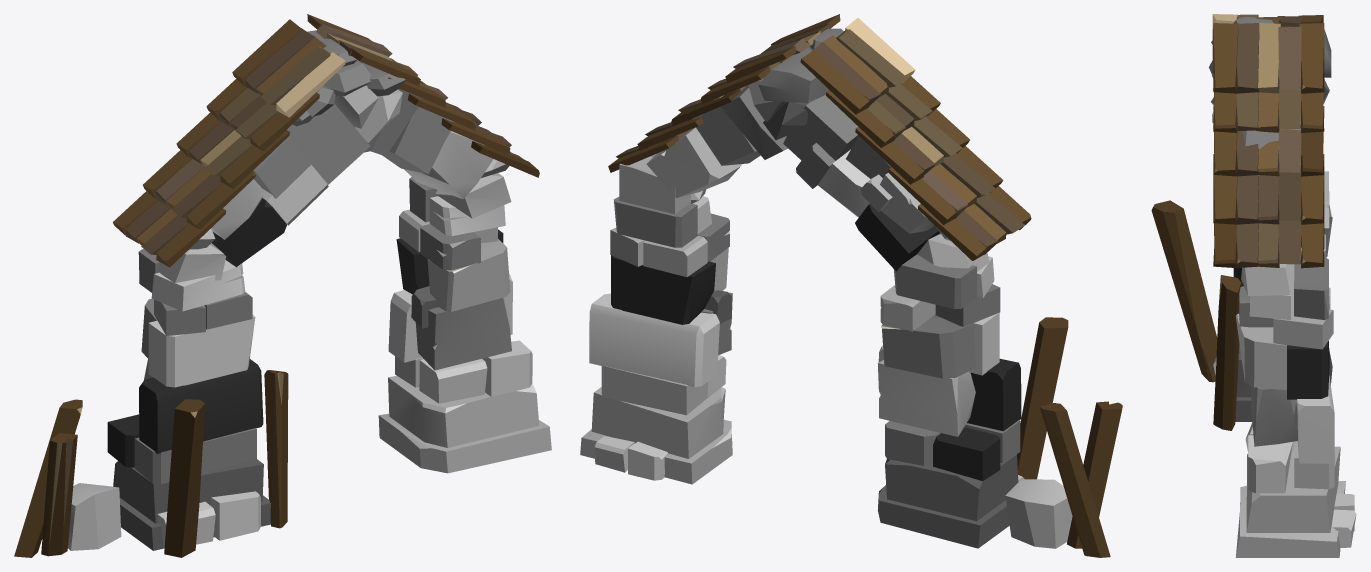
Rendered from EA03_Fence_RockGate_01a.glb.
3 renders of one model, left to right at view 1: azimuth 30°, elevation 25°; view 2: azimuth 150°, elevation 25°; view 3: azimuth 270°, elevation 25°, orthographic. The views are drawn at different scales.
Visible parts, largest first — view 1: EA03_Fence_RockGate_01a; view 2: EA03_Fence_RockGate_01a; view 3: EA03_Fence_RockGate_01a.
Part boxes in pixels (left/top/right/bottom): EA03_Fence_RockGate_01a: left=14, top=14, right=551, bottom=557; EA03_Fence_RockGate_01a: left=580, top=14, right=1122, bottom=557; EA03_Fence_RockGate_01a: left=1151, top=14, right=1356, bottom=557.
Bounding box in the file's own units: 4.34 × 3.65 × 1.54.
Materials: 1 (1 with a texture image).
